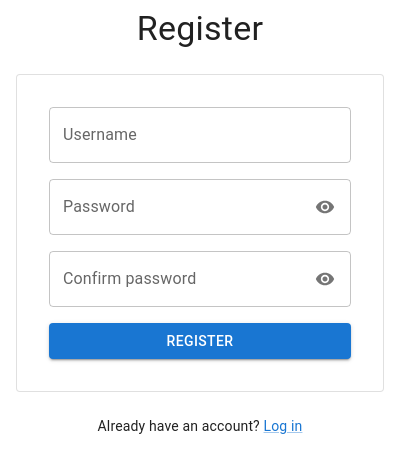
Test: RegisterPage › rejects a password shorter than 6 characters
Type "newuser" into the field labelled "Username". click: (200, 135)
box: [49, 107, 351, 163]
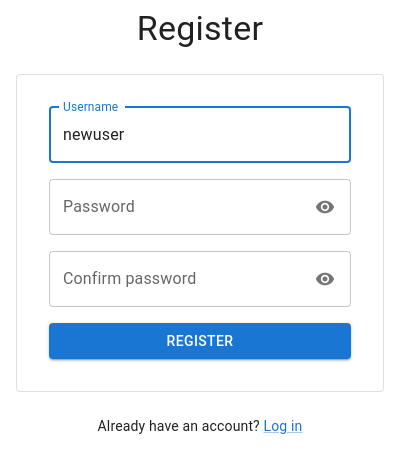
Type "short" into the password field labelled "Password". click: (176, 207)
box: [49, 179, 302, 235]
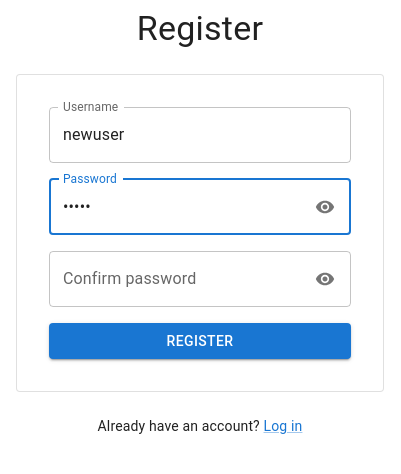
Type "short" into the password field labelled "Confirm password". click: (176, 279)
box: [49, 251, 302, 307]
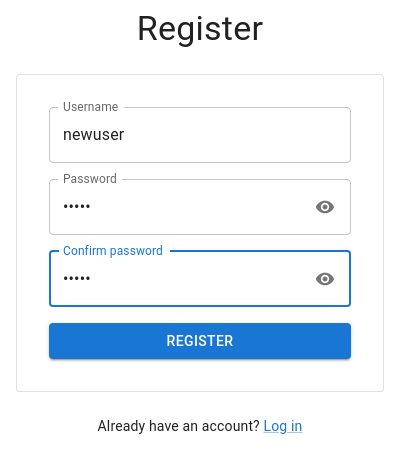
Click the button "Register". click: (200, 341)
box: [49, 323, 351, 360]
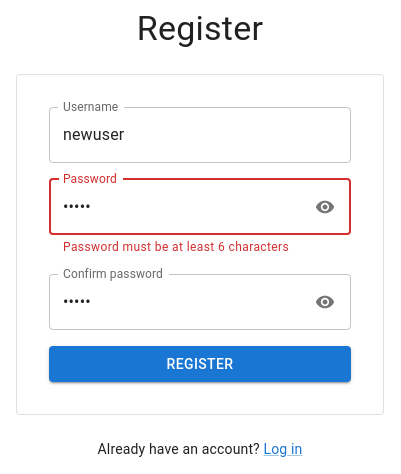
Result: the text "Password must be at least 6 characters" is shown at [63, 240, 289, 254]
